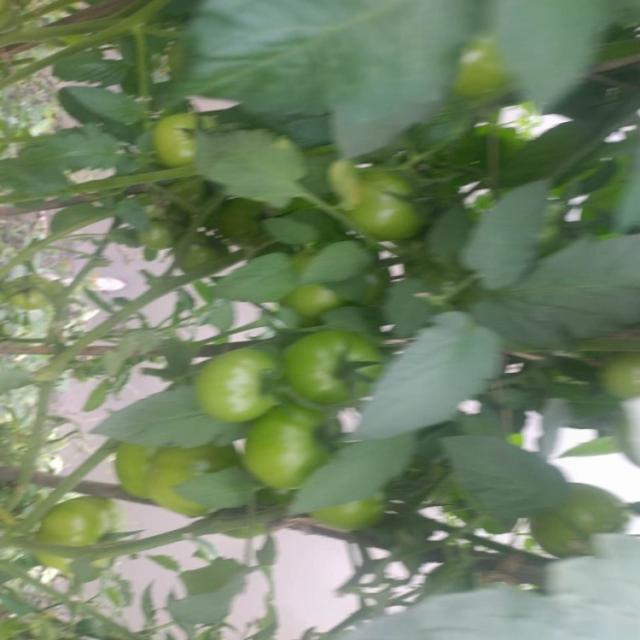tomato: (218, 392, 348, 492), (346, 157, 450, 250), (290, 323, 394, 415), (151, 439, 264, 518), (192, 338, 312, 411), (535, 471, 629, 553), (35, 481, 109, 574), (143, 108, 219, 166), (114, 432, 172, 493), (214, 202, 268, 249), (174, 231, 224, 274), (129, 207, 175, 251)
